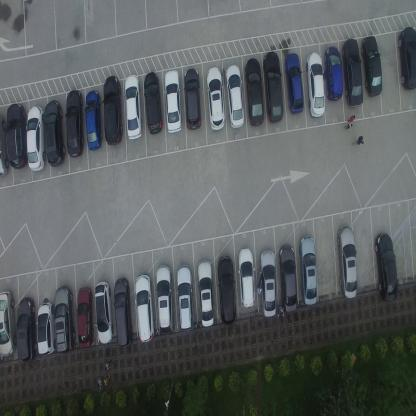car: (374, 231, 398, 304), (53, 284, 76, 354), (336, 224, 357, 299), (5, 103, 28, 171), (342, 38, 364, 108), (102, 75, 123, 147), (264, 50, 284, 124), (134, 274, 155, 344), (360, 35, 383, 98), (244, 56, 264, 127), (216, 255, 236, 325), (16, 297, 37, 363), (65, 89, 85, 158), (278, 244, 298, 313), (299, 234, 318, 306), (305, 50, 325, 118), (44, 99, 64, 167), (224, 64, 245, 128), (26, 105, 46, 172), (206, 65, 226, 131), (155, 264, 174, 333), (284, 52, 304, 116), (143, 71, 163, 135), (114, 277, 132, 348), (94, 281, 114, 344), (259, 249, 277, 318), (398, 25, 416, 92), (176, 265, 194, 332), (164, 68, 182, 134), (124, 74, 142, 140), (237, 247, 256, 309), (197, 259, 214, 328), (0, 290, 17, 356), (76, 287, 94, 349), (183, 67, 201, 128), (36, 301, 56, 355), (85, 89, 102, 151), (324, 45, 342, 101), (0, 112, 9, 179)
